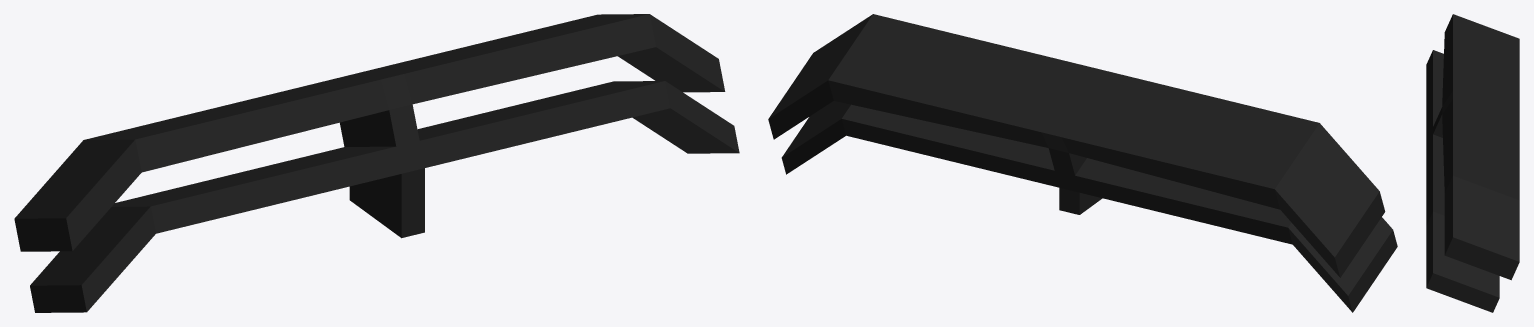
Rendered from spoiler5.glb.
The picture shows the model from 3 angles, left to right: view 1: azimuth 30°, elevation 25°; view 2: azimuth 150°, elevation 25°; view 3: azimuth 270°, elevation 25°; orthographic projection. The views are drawn at different scales.
Parts seen in each view (by area): view 1: spoiler5; view 2: spoiler5; view 3: spoiler5.
Boxes of the visible parts, <box> form: spoiler5: <box>14,14,739,312</box>; spoiler5: <box>768,14,1397,312</box>; spoiler5: <box>1426,14,1519,312</box>.
Bounding box in the file's own units: 2.34 × 0.6145 × 0.4506.
1 material, 1 textured.
